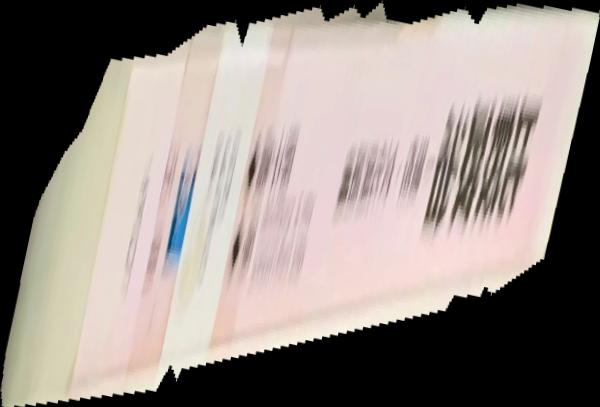flat: (1, 1, 600, 407)
